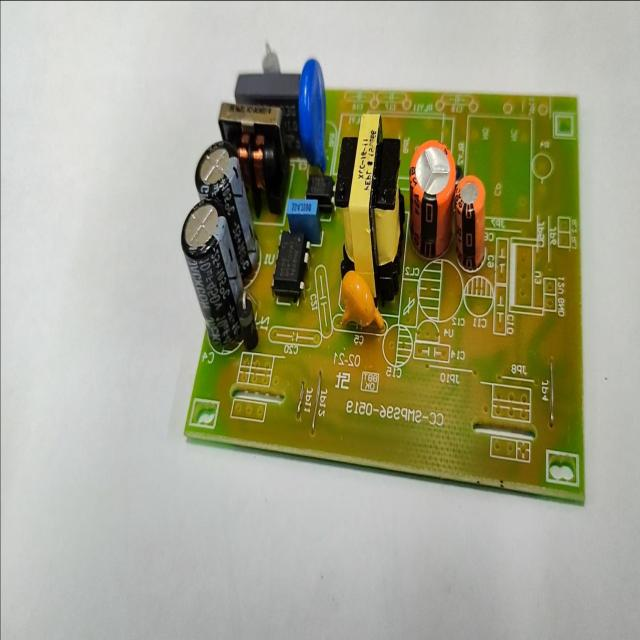Cap1: (408, 136, 454, 264)
Cap2: (454, 169, 488, 274)
Cap3: (193, 135, 235, 203)
Cap4: (178, 202, 238, 354)
MOSFET: (268, 227, 312, 303)
Mov: (296, 57, 330, 172)
Resistor: (259, 39, 281, 74)
Transformer: (337, 103, 400, 300), (239, 106, 289, 208)
